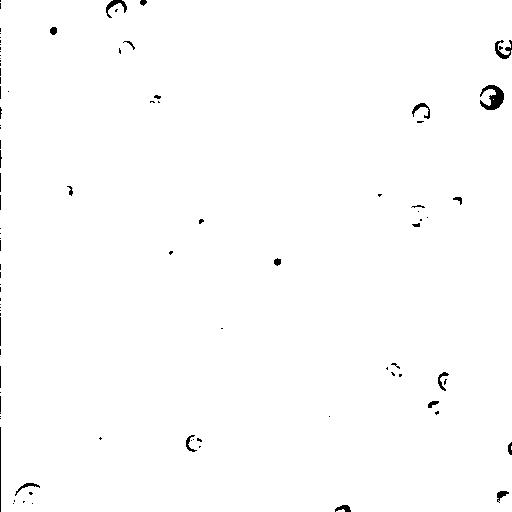micro-algae: (397, 325, 512, 439), (303, 229, 399, 319), (433, 412, 511, 511), (27, 0, 112, 67), (114, 21, 187, 99), (457, 129, 511, 185), (422, 95, 465, 141), (336, 475, 388, 512), (371, 7, 411, 49), (1, 133, 23, 193), (183, 206, 217, 239), (399, 203, 433, 235), (279, 115, 309, 148), (117, 337, 146, 369), (13, 483, 45, 511), (379, 355, 409, 384), (259, 241, 287, 271), (477, 83, 505, 110), (55, 176, 81, 205), (87, 428, 117, 453), (365, 173, 391, 201), (489, 480, 511, 511), (40, 17, 64, 40), (162, 241, 181, 269), (2, 87, 19, 115), (411, 101, 431, 124), (495, 33, 512, 59), (436, 371, 457, 391), (106, 0, 129, 18), (131, 0, 157, 14), (185, 434, 204, 453), (425, 397, 442, 418), (7, 0, 39, 11), (117, 39, 135, 57), (448, 195, 463, 211), (333, 502, 353, 511), (507, 437, 512, 455)
